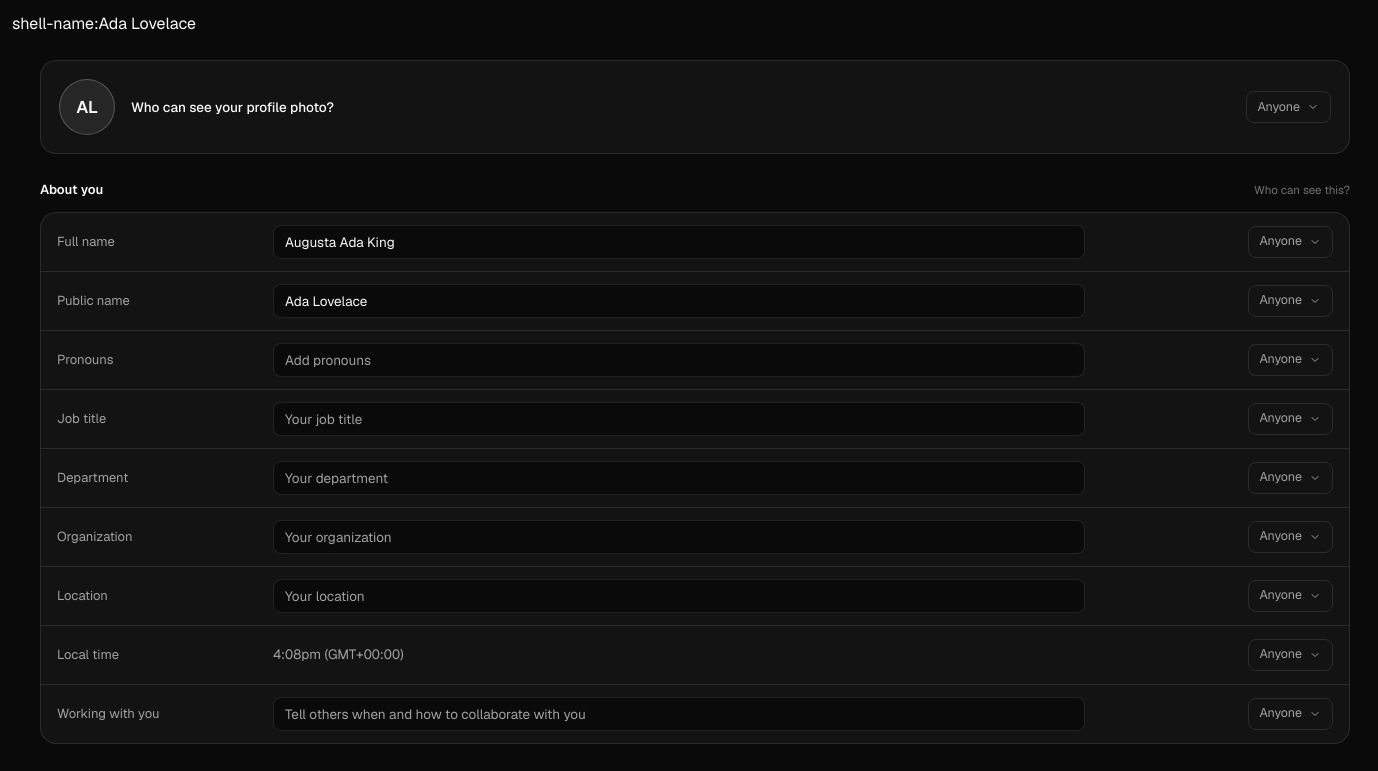
Test case: AccountProfile › updates the shell display name when public name is edited
This screenshot has width=1378, height=771.
Replace the text in the field labelled "Public name" with "Ada King" at (679, 300), box [273,284,1085,318]
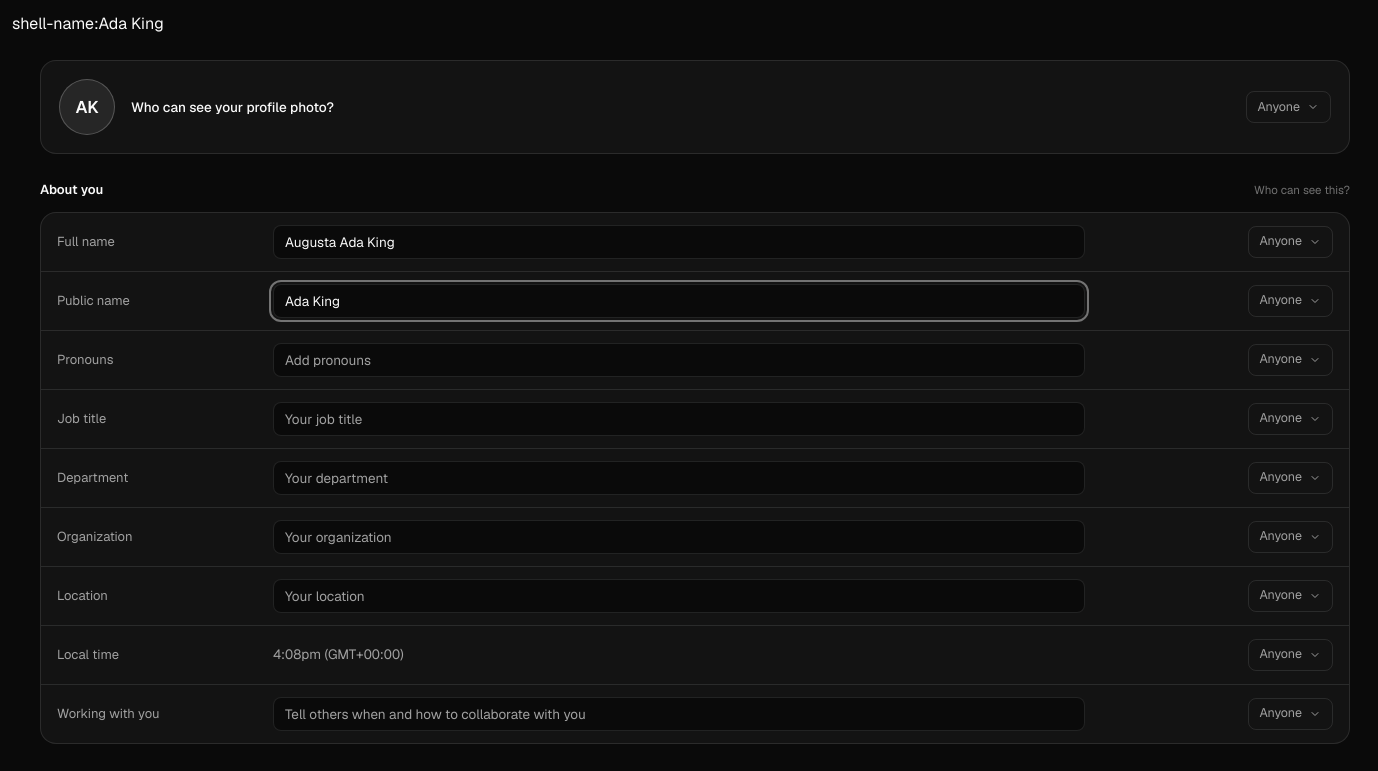
Expected: the text "shell-name:Ada King" is shown, [12,13,164,34]
